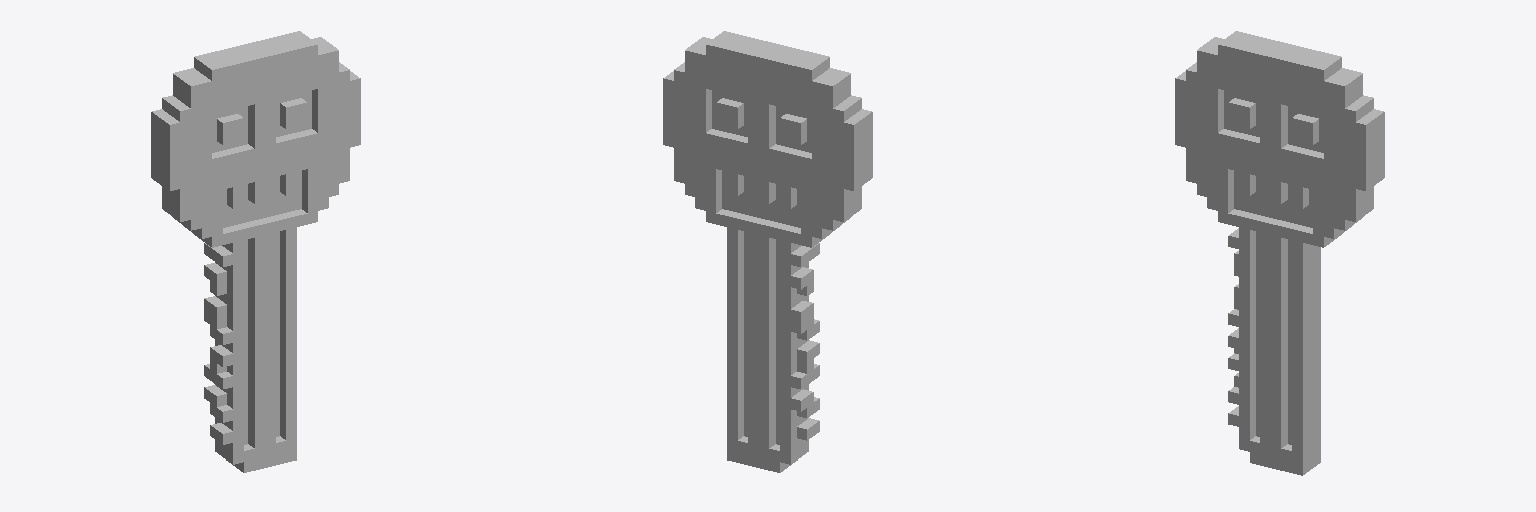
Rendered from housekey.vox.obj.
3 renders of one model, left to right at view 1: azimuth 30°, elevation 25°; view 2: azimuth 150°, elevation 25°; view 3: azimuth 330°, elevation 25°, orthographic.
Parts seen in each view (by area): view 1: object 1; view 2: object 1; view 3: object 1.
Boxes of the visible parts, box(x1,y1,x2,y2) form: object 1: box(151, 31, 360, 472); object 1: box(663, 31, 872, 472); object 1: box(1175, 31, 1384, 475).
Size of the model in its own units: 1.8 by 3.7 by 0.3.